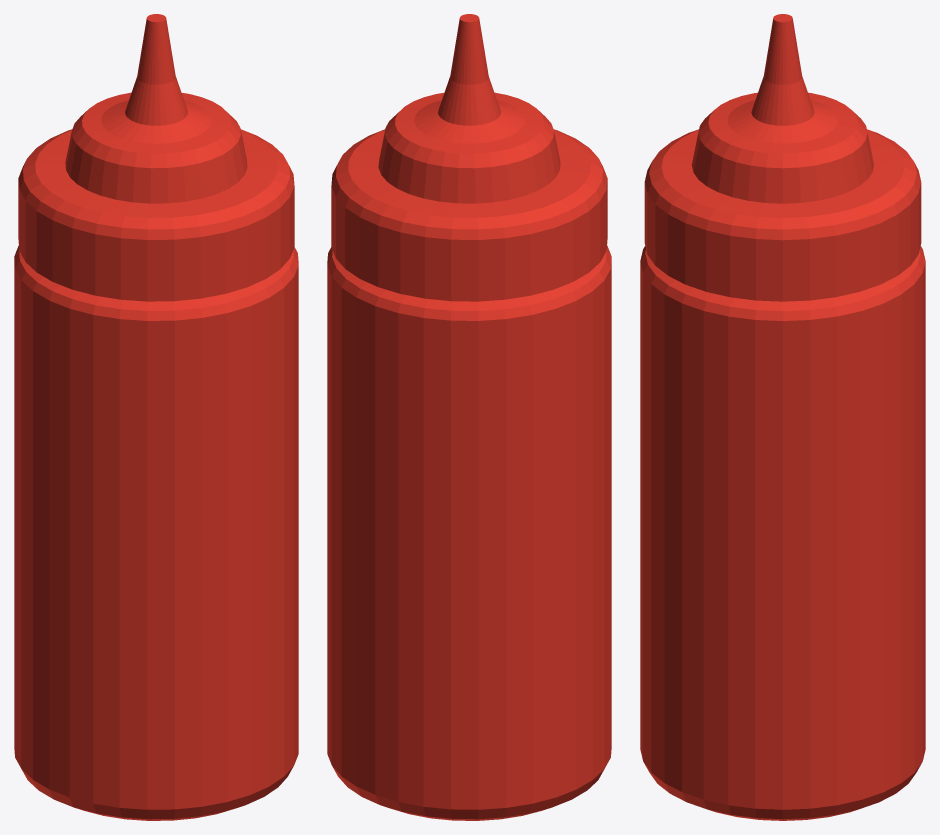
File: condimentKetchup.fbx
3 views of the same model, side by side, from view 1: azimuth 30°, elevation 25°; view 2: azimuth 150°, elevation 25°; view 3: azimuth 270°, elevation 25° (orthographic).
Visible parts, largest first — view 1: Cylinder; view 2: Cylinder; view 3: Cylinder.
Part boxes in pixels (bbox=[...]): Cylinder: bbox=[14, 14, 298, 820]; Cylinder: bbox=[327, 14, 611, 820]; Cylinder: bbox=[640, 14, 925, 820].
Size of the model in its own units: 331 by 973 by 331.
